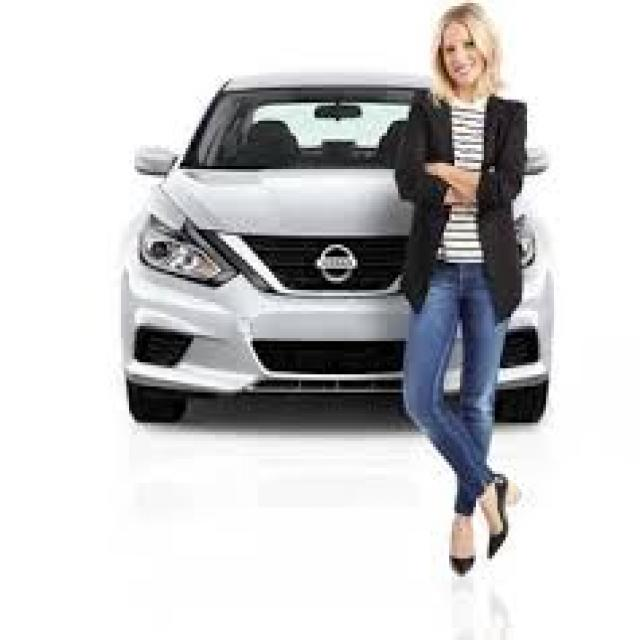Car: (111, 62, 557, 437)
